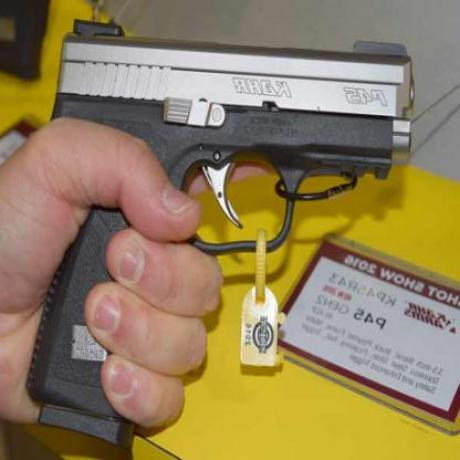1: (0, 112, 226, 440)
weapon: (27, 20, 413, 437)
